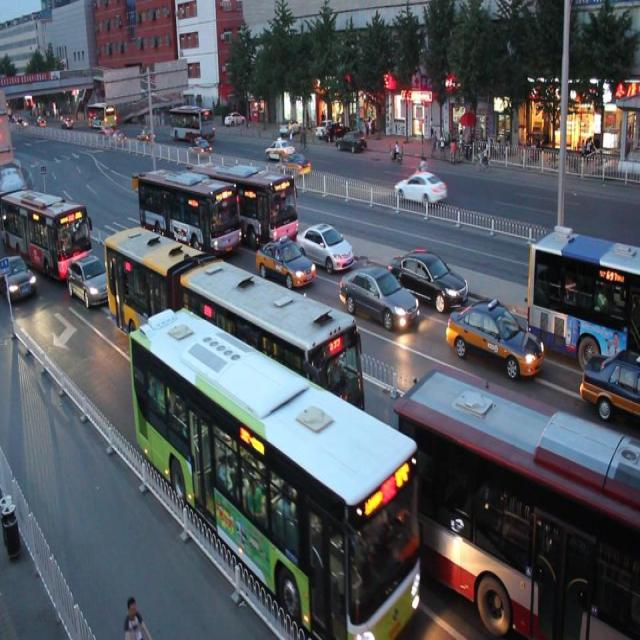car: (446, 294, 544, 382), (337, 258, 416, 331), (390, 243, 468, 309), (577, 344, 640, 413), (253, 230, 314, 289), (294, 214, 352, 273), (66, 253, 115, 306), (1, 248, 36, 303)
van: (130, 307, 416, 640), (102, 218, 366, 482), (396, 368, 640, 640), (526, 229, 640, 365), (136, 160, 240, 262), (191, 153, 298, 248), (1, 182, 90, 272)
